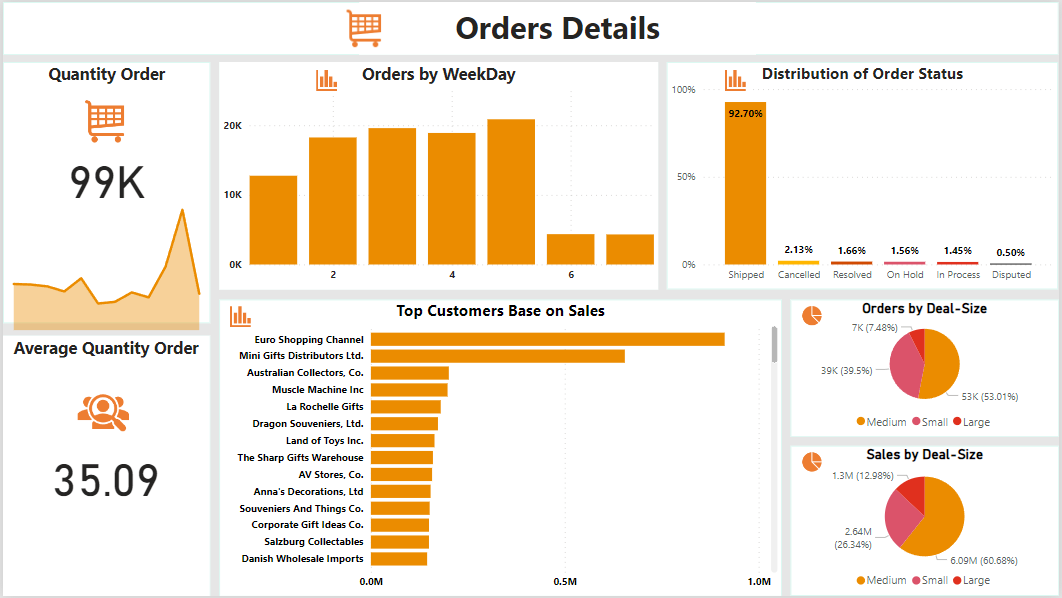

This screenshot's page, from the dashboard's own definition file:
{"tool":"powerbi","page":{"name":"Order Details","canvas":[1280,720],"ordinal":1},"visuals":[{"type":"shape","box":[805.1,73.1,474.4,275.6],"z":0},{"type":"shape","box":[262.8,360.3,682.1,360.3],"z":1000},{"type":"shape","box":[0,73.1,251.3,316.7],"z":2000},{"type":"shape","box":[953.8,360.3,325.6,166.7],"z":3000},{"type":"shape","box":[0,0,1279.5,64.1],"z":4000},{"type":"shape","box":[0,403.8,251.3,316.7],"z":5000},{"type":"shape","box":[953.8,538.5,325.6,182.1],"z":6000},{"type":"card","title":"Quantity Order","fields":{"Values":["Sum(sales_data_sample.QUANTITYORDERED)"]},"box":[0,73.1,251.3,256.4],"z":7000},{"type":"card","title":"Average Quantity Order","fields":{"Values":["Avg(sales_data_sample.QUANTITYORDERED)"]},"box":[0,403.8,250,316.7],"z":8000},{"type":"pieChart","title":"Sales by Deal-Size","fields":{"Category":["sales_data_sample.DEALSIZE"],"Y":["Sum(sales_data_sample.SALES)"]},"box":[953.8,538.5,325.6,182.1],"z":9000},{"type":"pieChart","title":"Orders by Deal-Size","fields":{"Category":["sales_data_sample.DEALSIZE"],"Y":["Sum(sales_data_sample.QUANTITYORDERED)"]},"box":[953.8,360.3,325.6,166.7],"z":10000},{"type":"columnChart","title":"Distribution of Order Status","fields":{"Category":["sales_data_sample.STATUS"],"Y":["CountNonNull(sales_data_sample.STATUS)"]},"box":[805.1,73.1,474.4,275.6],"z":11000},{"type":"clusteredBarChart","title":"Top Customers Base on Sales","fields":{"Category":["sales_data_sample.CUSTOMERNAME"],"Y":["Sum(sales_data_sample.SALES)"]},"box":[262.8,360.3,682.1,360.3],"z":12000},{"type":"textbox","box":[432.1,0,480.8,64.1],"z":13000},{"type":"shape","box":[262.8,73.1,532.1,275.6],"z":14000},{"type":"columnChart","title":"Orders by WeekDay","fields":{"Category":["sales_data_sample.weekday"],"Y":["Sum(sales_data_sample.QUANTITYORDERED)"]},"box":[262.8,73.1,532.1,275.6],"z":15000},{"type":"areaChart","fields":{"Category":["sales_data_sample.ORDERDATE.Variation.Date Hierarchy.Year","sales_data_sample.ORDERDATE.Variation.Date Hierarchy.Quarter","sales_data_sample.ORDERDATE.Variation.Date Hierarchy.Month","sales_data_sample.ORDERDATE.Variation.Date Hierarchy.Day"],"Y":["Sum(sales_data_sample.QUANTITYORDERED)"]},"box":[0,209,251.3,194.9],"z":16000},{"type":"image","box":[85.9,109,78.2,71.8],"z":17000},{"type":"image","box":[78.2,457.7,85.9,80.8],"z":18000},{"type":"image","box":[366.7,73.1,51.3,44.9],"z":19000},{"type":"image","box":[861.5,73.1,51.3,44.9],"z":20000},{"type":"image","box":[262.8,359,51.3,44.9],"z":21000},{"type":"image","box":[953.8,360.3,51.3,39.7],"z":22000},{"type":"image","box":[953.8,538.5,51.3,39.7],"z":23000},{"type":"image","box":[402.6,0,71.8,64.1],"z":24000}]}

Visuals, with their boxes in screenshot pixels (x1, y1, x2, y2), scaled from the page's 1280x720 canvas onto the 1062x598 screenshot:
shape: 668, 61, 1061, 290
shape: 218, 299, 784, 597
shape: 0, 61, 209, 324
shape: 791, 299, 1061, 438
shape: 0, 0, 1061, 53
shape: 0, 335, 209, 597
shape: 791, 447, 1061, 597
"Quantity Order" card: 0, 61, 209, 274
"Average Quantity Order" card: 0, 335, 207, 597
"Sales by Deal-Size" pieChart: 791, 447, 1061, 597
"Orders by Deal-Size" pieChart: 791, 299, 1061, 438
"Distribution of Order Status" columnChart: 668, 61, 1061, 290
"Top Customers Base on Sales" clusteredBarChart: 218, 299, 784, 597
textbox: 359, 0, 757, 53
shape: 218, 61, 660, 290
"Orders by WeekDay" columnChart: 218, 61, 660, 290
areaChart - sales_data_sample.ORDERDATE.Variation.Date Hierarchy.Year x sales_data_sample.ORDERDATE.Variation.Date Hierarchy.Quarter: 0, 174, 209, 335
image: 71, 91, 136, 150
image: 65, 380, 136, 447
image: 304, 61, 347, 98
image: 715, 61, 757, 98
image: 218, 298, 261, 335
image: 791, 299, 834, 332
image: 791, 447, 834, 480
image: 334, 0, 394, 53
